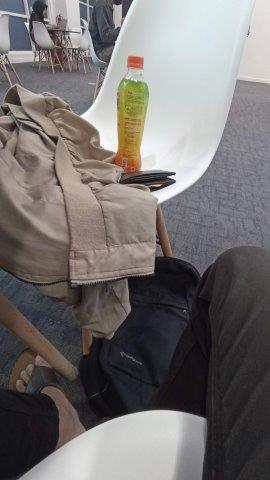botolplastik: (114, 54, 149, 175)
